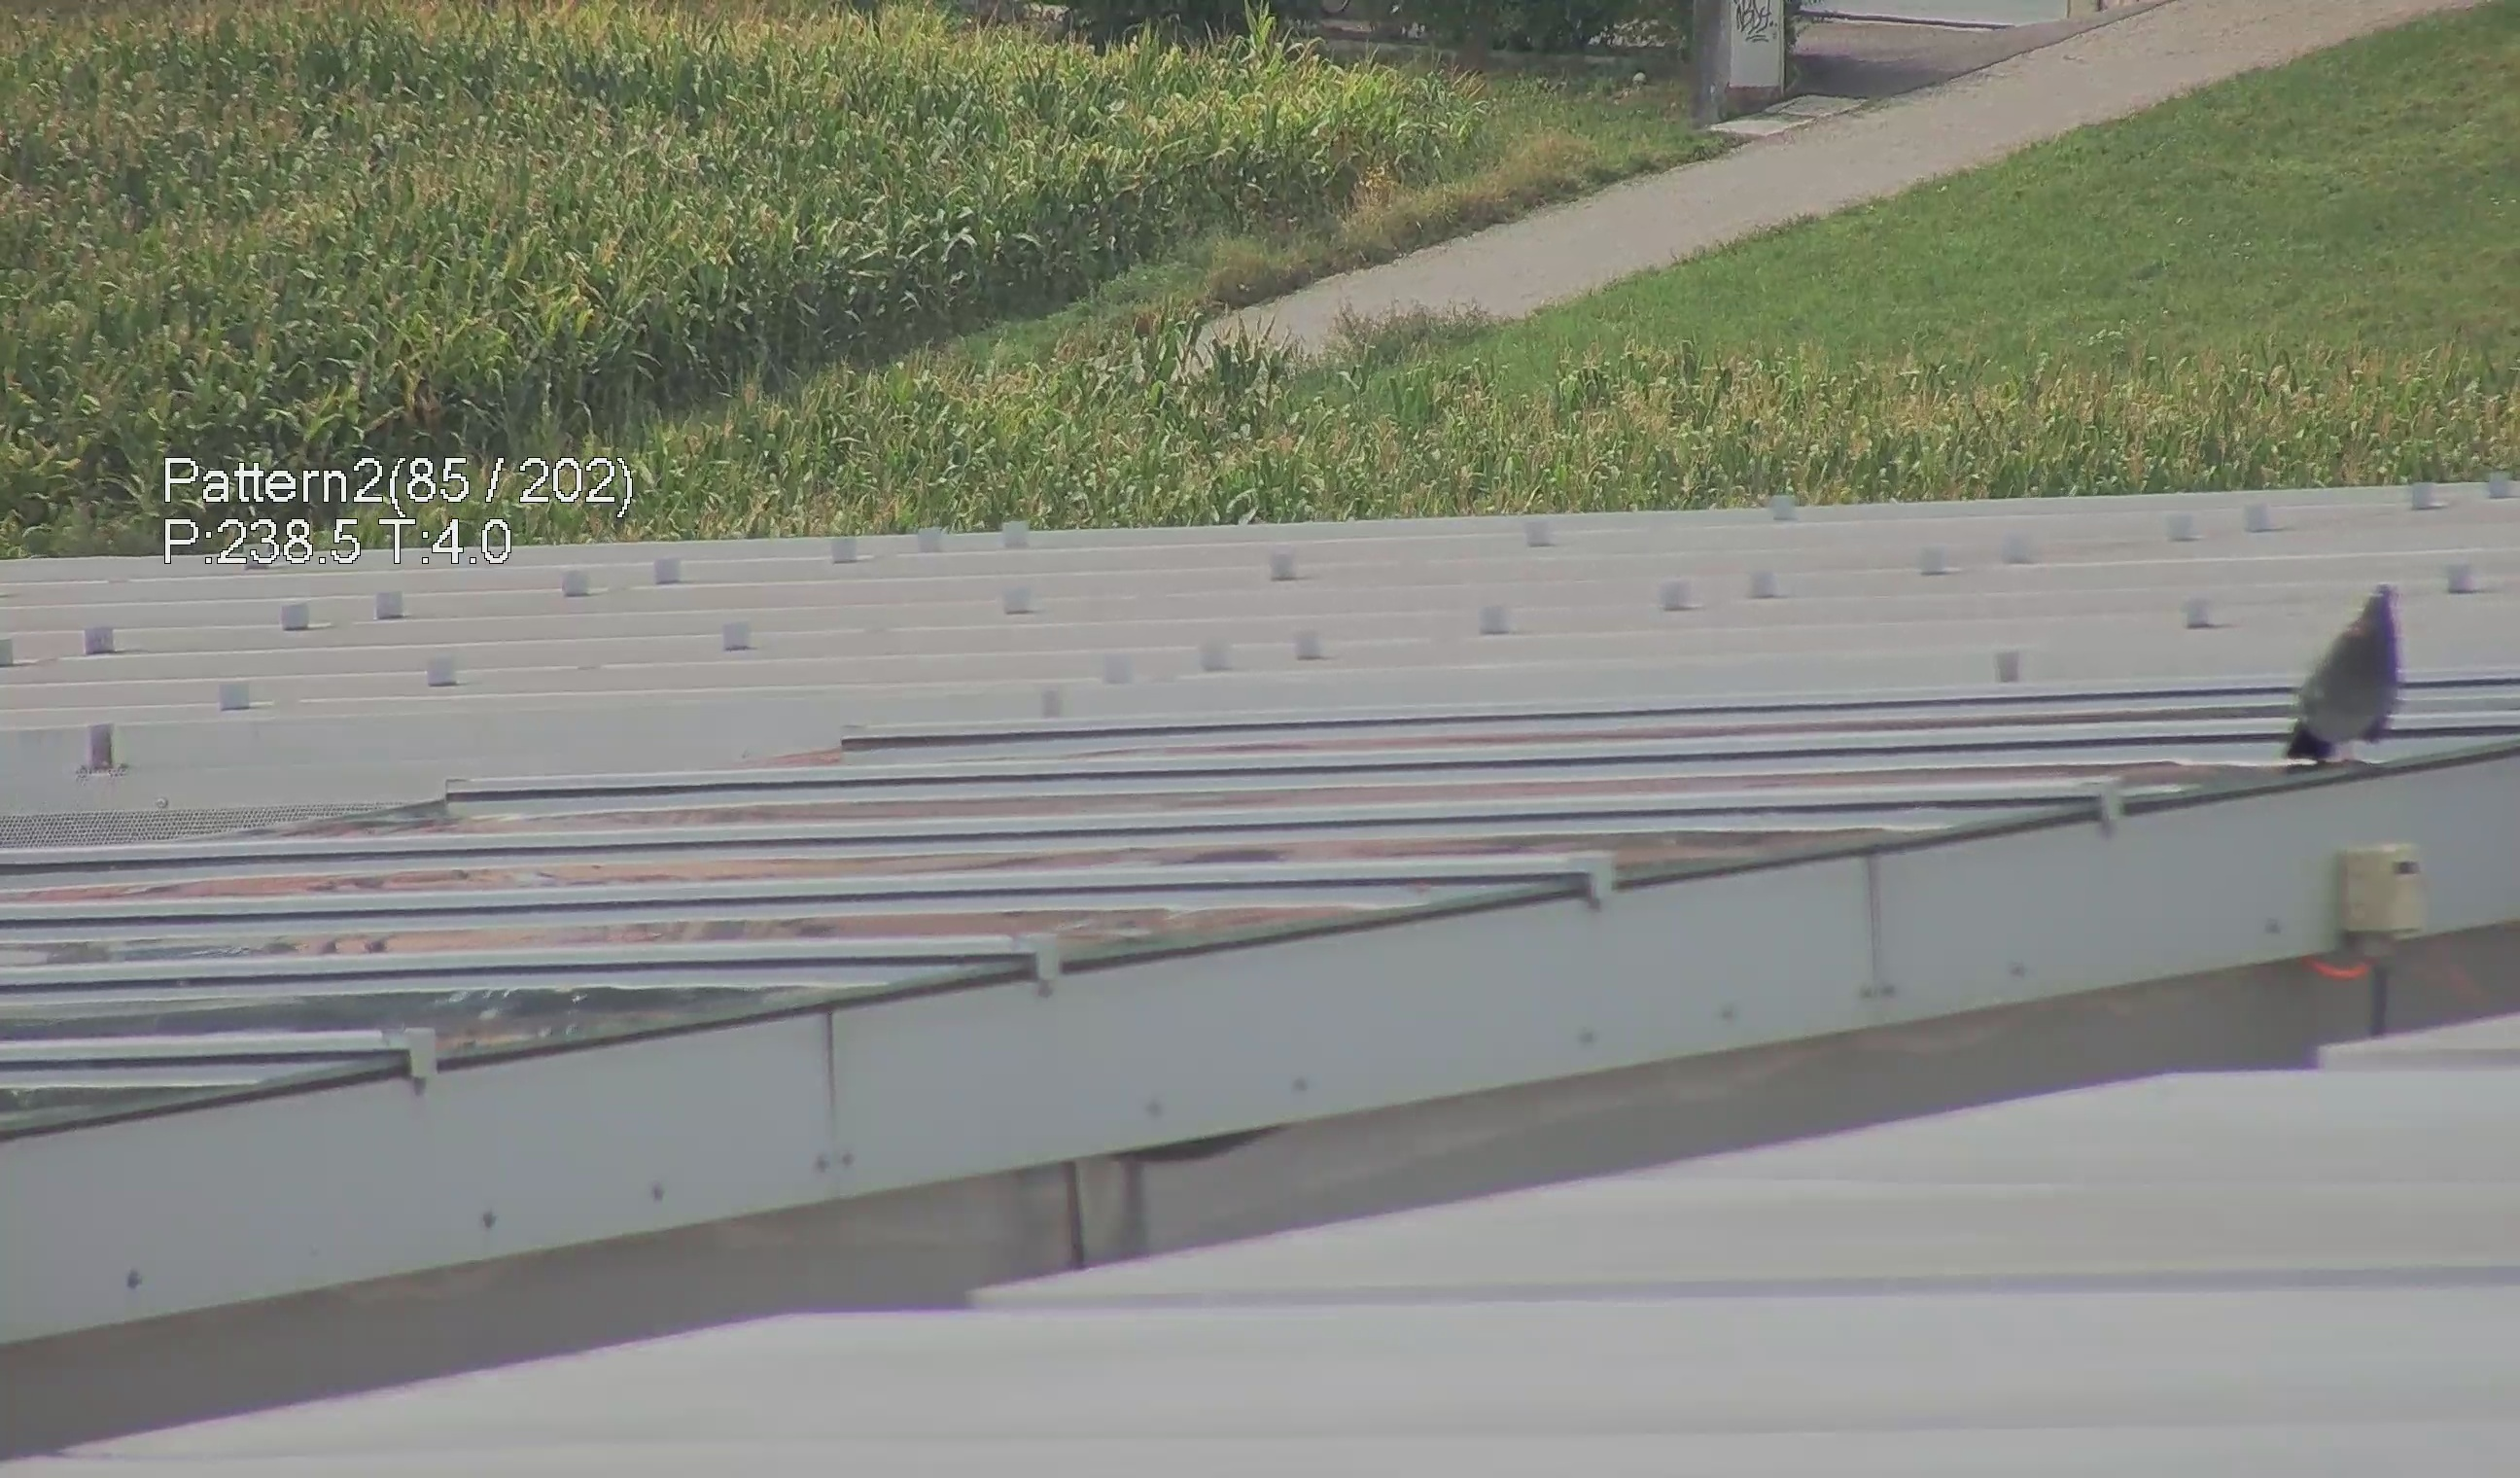Pigeon: (2284, 567, 2427, 774)
